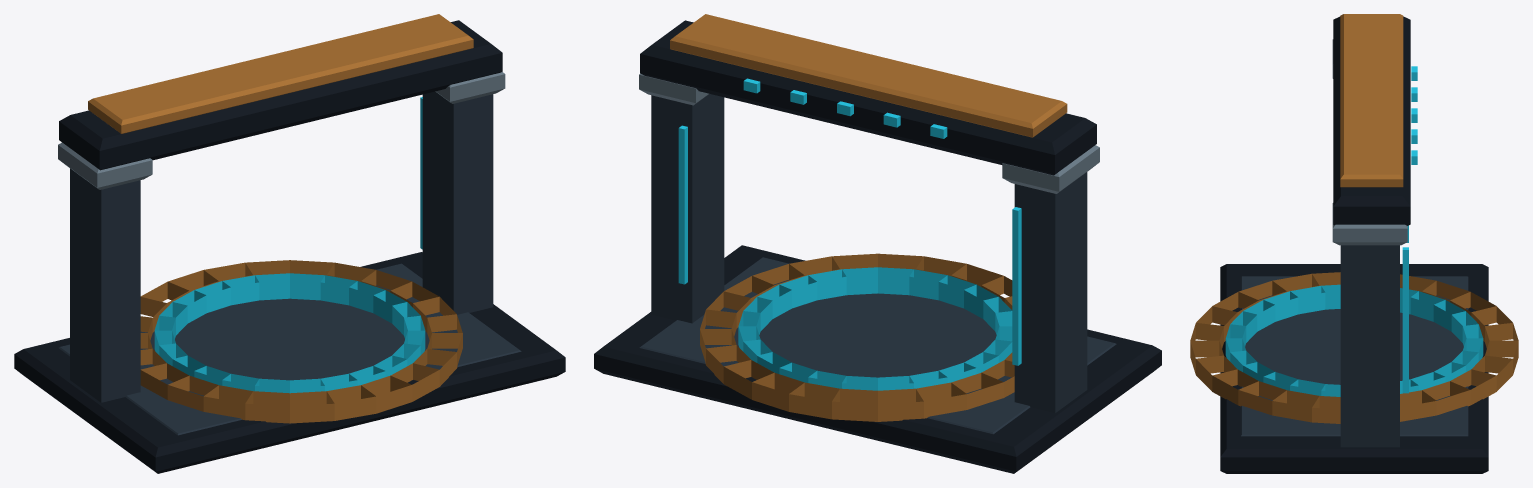
File: extraction_gate.obj
The picture shows the model from 3 angles, left to right: view 1: azimuth 30°, elevation 25°; view 2: azimuth 150°, elevation 25°; view 3: azimuth 270°, elevation 25°; orthographic projection. The views are drawn at different scales.
Visible parts, largest first — view 1: ancient_extraction_gate; view 2: ancient_extraction_gate; view 3: ancient_extraction_gate.
Part boxes in pixels (<box>): ancient_extraction_gate: <box>14,14,565,473</box>; ancient_extraction_gate: <box>594,14,1161,473</box>; ancient_extraction_gate: <box>1190,14,1518,473</box>.
Size of the model in its own units: 5.7 by 4.02 by 4.16.
